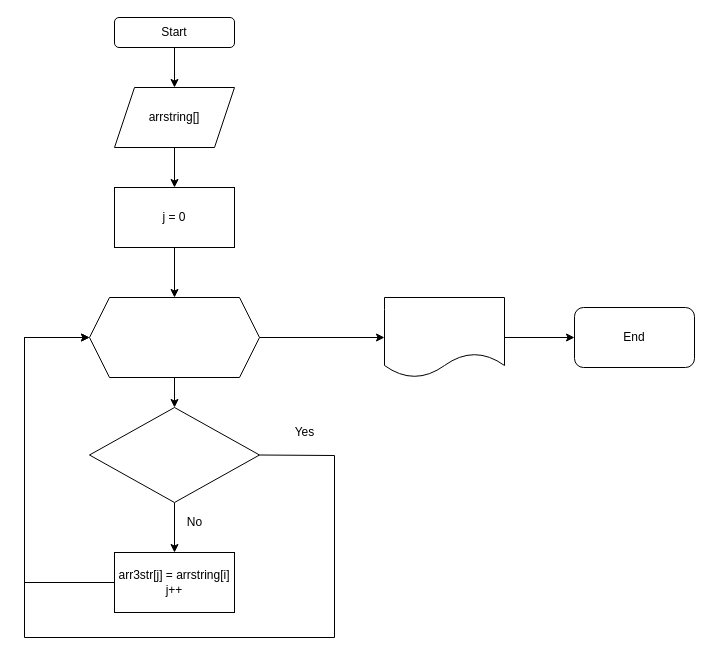
Image size: 712x663. Some labels were removed from this diagram. Here are the shapes that lost their labels. From the top down, the centre of each, then its label:
At [174,337]: "i = 0; Lenght(arrstring); 1".
At [444,337]: "arr3str".
At [174,454]: "Lenght(arrstring[i] > 3".
